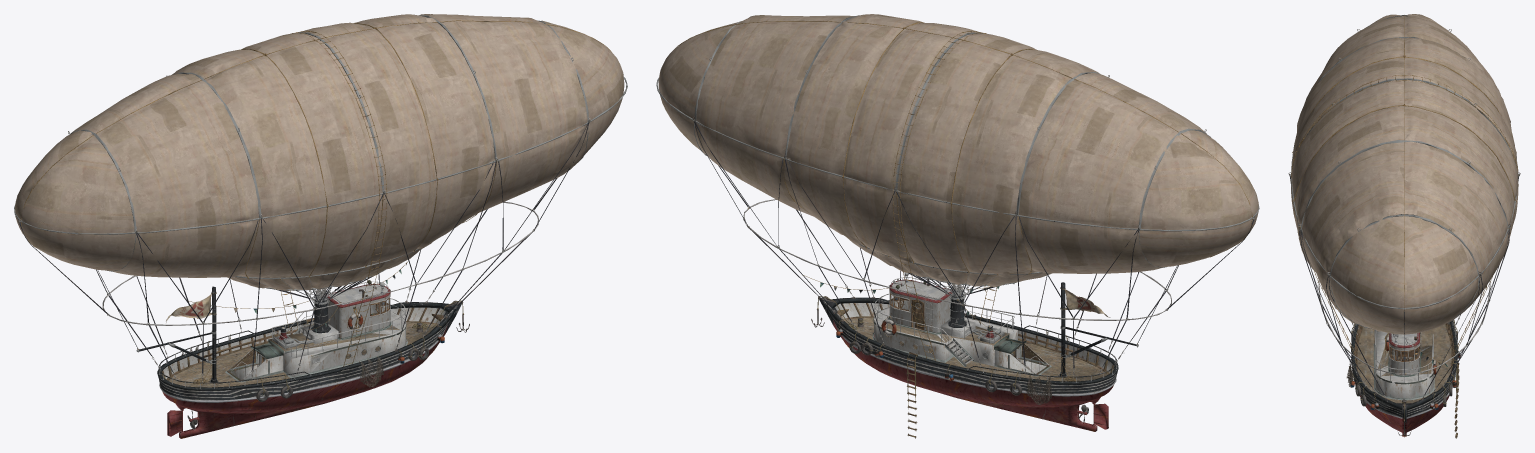
The model's file is cargo_blimp.glb.
3 views of the same model, side by side, from view 1: azimuth 30°, elevation 25°; view 2: azimuth 150°, elevation 25°; view 3: azimuth 270°, elevation 25° (orthographic). The views are drawn at different scales.
Visible parts, largest first — view 1: KB3D_SOL_VehicBlimpShip_A_Ballon_A, KB3D_SOL_VehicBlimpShip_A_BoatBody_A, KB3D_SOL_VehicBlimpShip_A_BoatUpDeck_A, KB3D_SOL_VehicBlimpShip_A_BoatExterior_A, KB3D_SOL_VehicBlimpShip_A_Mast_A, KB3D_SOL_VehicBlimpShip_A_BoatRailing_A, KB3D_SOL_VehicBlimpShip_A_BoatPart_A, KB3D_SOL_VehicBlimpShip_A_AirBurner_A; view 2: KB3D_SOL_VehicBlimpShip_A_Ballon_A, KB3D_SOL_VehicBlimpShip_A_BoatBody_A, KB3D_SOL_VehicBlimpShip_A_BoatUpDeck_A, KB3D_SOL_VehicBlimpShip_A_BoatExterior_A, KB3D_SOL_VehicBlimpShip_A_Mast_A, KB3D_SOL_VehicBlimpShip_A_BoatRailing_A, KB3D_SOL_VehicBlimpShip_A_BoatPart_A, KB3D_SOL_VehicBlimpShip_A_AirBurner_A; view 3: KB3D_SOL_VehicBlimpShip_A_Ballon_A, KB3D_SOL_VehicBlimpShip_A_BoatBody_A, KB3D_SOL_VehicBlimpShip_A_BoatUpDeck_A, KB3D_SOL_VehicBlimpShip_A_BoatExterior_A, KB3D_SOL_VehicBlimpShip_A_BoatRailing_A, KB3D_SOL_VehicBlimpShip_A_BoatInterior_A.
Part boxes in pixels (x1,y1,x2,y2): KB3D_SOL_VehicBlimpShip_A_Ballon_A: [14, 14, 627, 384]; KB3D_SOL_VehicBlimpShip_A_BoatBody_A: [157, 300, 463, 438]; KB3D_SOL_VehicBlimpShip_A_BoatUpDeck_A: [225, 312, 407, 382]; KB3D_SOL_VehicBlimpShip_A_BoatExterior_A: [326, 281, 391, 339]; KB3D_SOL_VehicBlimpShip_A_Mast_A: [136, 286, 218, 384]; KB3D_SOL_VehicBlimpShip_A_BoatRailing_A: [271, 298, 405, 357]; KB3D_SOL_VehicBlimpShip_A_BoatPart_A: [273, 324, 338, 348]; KB3D_SOL_VehicBlimpShip_A_AirBurner_A: [308, 289, 333, 333]; KB3D_SOL_VehicBlimpShip_A_Ballon_A: [656, 14, 1259, 378]; KB3D_SOL_VehicBlimpShip_A_BoatBody_A: [818, 296, 1118, 431]; KB3D_SOL_VehicBlimpShip_A_BoatUpDeck_A: [872, 307, 1051, 376]; KB3D_SOL_VehicBlimpShip_A_BoatExterior_A: [888, 277, 952, 334]; KB3D_SOL_VehicBlimpShip_A_Mast_A: [1054, 282, 1138, 381]; KB3D_SOL_VehicBlimpShip_A_BoatRailing_A: [874, 293, 1014, 366]; KB3D_SOL_VehicBlimpShip_A_BoatPart_A: [940, 319, 1004, 343]; KB3D_SOL_VehicBlimpShip_A_AirBurner_A: [945, 284, 969, 327]; KB3D_SOL_VehicBlimpShip_A_Ballon_A: [1288, 14, 1520, 398]; KB3D_SOL_VehicBlimpShip_A_BoatBody_A: [1351, 320, 1457, 436]; KB3D_SOL_VehicBlimpShip_A_BoatUpDeck_A: [1373, 330, 1434, 400]; KB3D_SOL_VehicBlimpShip_A_BoatExterior_A: [1388, 332, 1421, 376]; KB3D_SOL_VehicBlimpShip_A_BoatRailing_A: [1375, 330, 1433, 382]; KB3D_SOL_VehicBlimpShip_A_BoatInterior_A: [1389, 346, 1419, 361].
Bounding box in the file's own units: 48.01 × 29.54 × 17.67.
36 materials, 36 textured.
